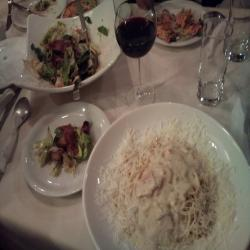rice: (93, 114, 239, 248)
salad: (31, 122, 95, 177)
